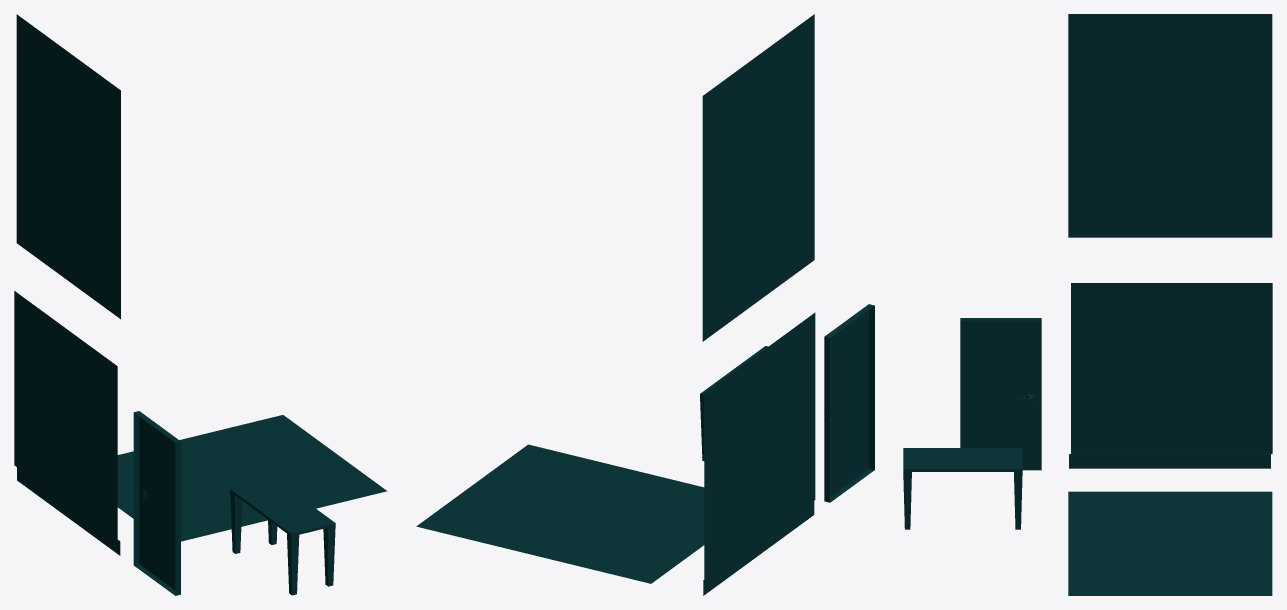
The model's file is Cenario.fbx.
The picture shows the model from 3 angles, left to right: view 1: azimuth 30°, elevation 25°; view 2: azimuth 150°, elevation 25°; view 3: azimuth 270°, elevation 25°; orthographic projection. The views are drawn at different scales.
Parts seen in each view (by area): view 1: Teto, Parede, Chao, pCube2, pCube1; view 2: Teto, Chao, Parede, pCube2; view 3: Teto, Parede, Chao, pCube2, pCube1.
Part boxes in pixels (box(x1,y1,x2,y2)): Teto: box(16, 14, 120, 319); Parede: box(14, 291, 120, 555); Chao: box(117, 415, 387, 541); pCube2: box(133, 411, 180, 595); pCube1: box(230, 478, 335, 595); Teto: box(702, 14, 814, 341); Chao: box(416, 444, 704, 583); Parede: box(703, 312, 815, 595); pCube2: box(824, 304, 874, 502); Teto: box(1068, 14, 1272, 237); Parede: box(1069, 283, 1272, 468); Chao: box(1068, 491, 1272, 595); pCube2: box(960, 318, 1041, 470); pCube1: box(903, 448, 1022, 529).
Size of the model in its own units: 372 by 617 by 454.
